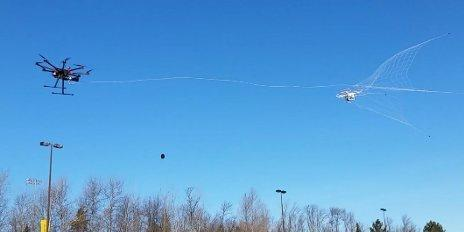UAV: (256, 104, 464, 232)
